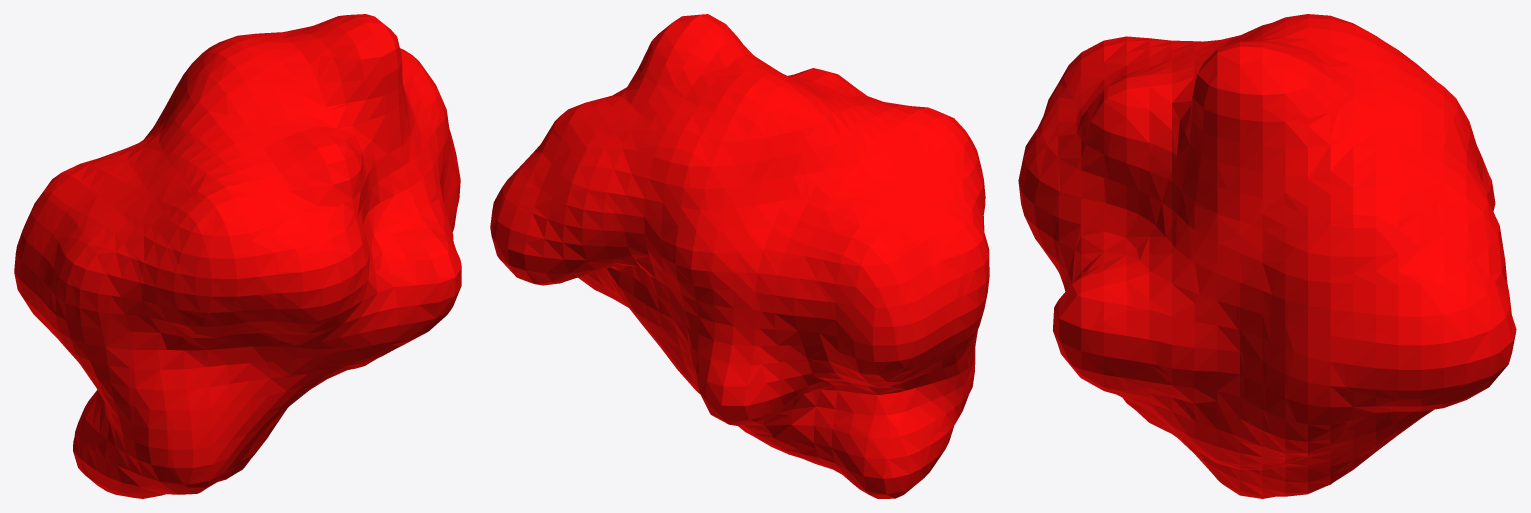
Rendered from cheW_coarse.dae.
The picture shows the model from 3 angles, left to right: view 1: azimuth 30°, elevation 25°; view 2: azimuth 150°, elevation 25°; view 3: azimuth 270°, elevation 25°; orthographic projection. The views are drawn at different scales.
Visible parts, largest first — view 1: cheW; view 2: cheW; view 3: cheW.
Boxes of the visible parts, bbox=[...] form: cheW: bbox=[14, 14, 461, 498]; cheW: bbox=[490, 14, 989, 498]; cheW: bbox=[1018, 14, 1516, 498].
Bounding box in the file's own units: 49.73 × 46.43 × 38.61.
